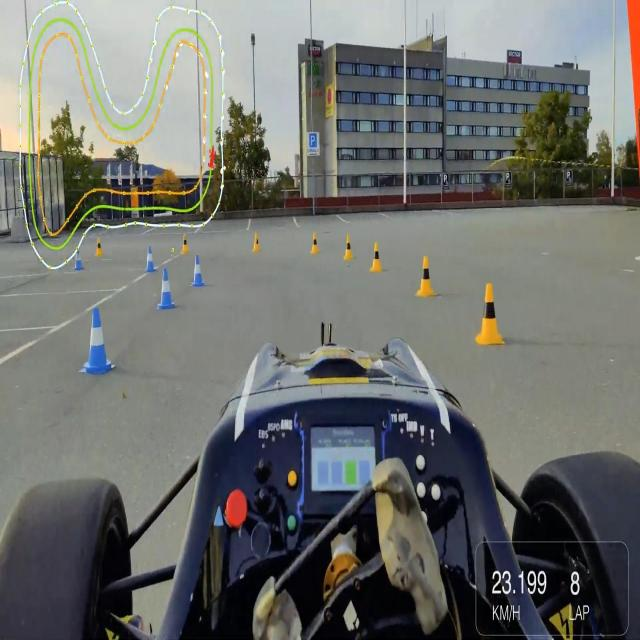blue_cone: (79, 307, 115, 374), (158, 268, 176, 310), (191, 254, 204, 286), (144, 245, 156, 272), (74, 248, 84, 269)
yellow_cone: (476, 283, 504, 345), (417, 256, 436, 297), (371, 243, 382, 274), (344, 234, 353, 261), (311, 232, 319, 255), (95, 237, 103, 257), (253, 231, 260, 252), (182, 231, 188, 252)
